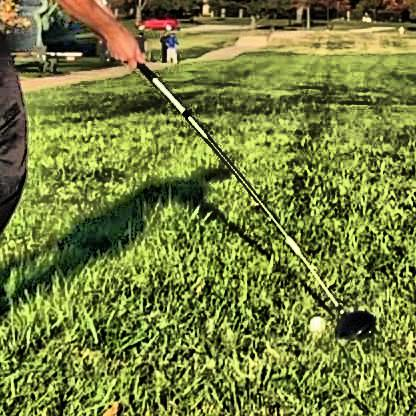golfball: (306, 312, 321, 329)
